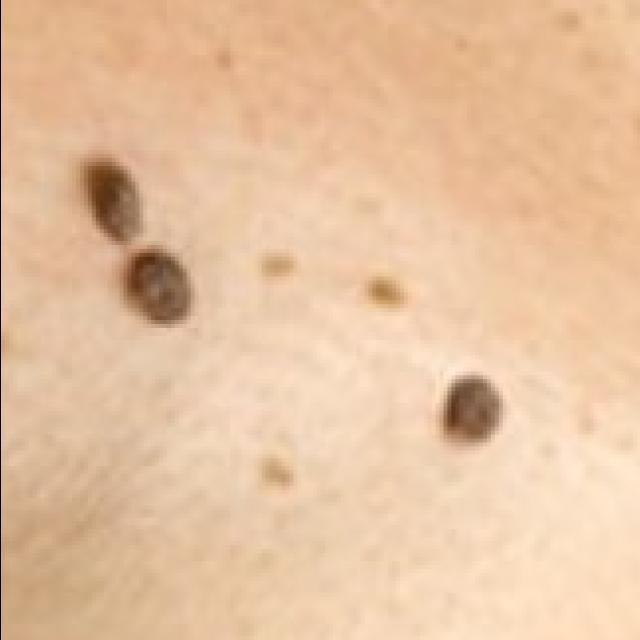wart: (83, 158, 150, 245), (122, 249, 194, 328), (446, 376, 509, 454)
